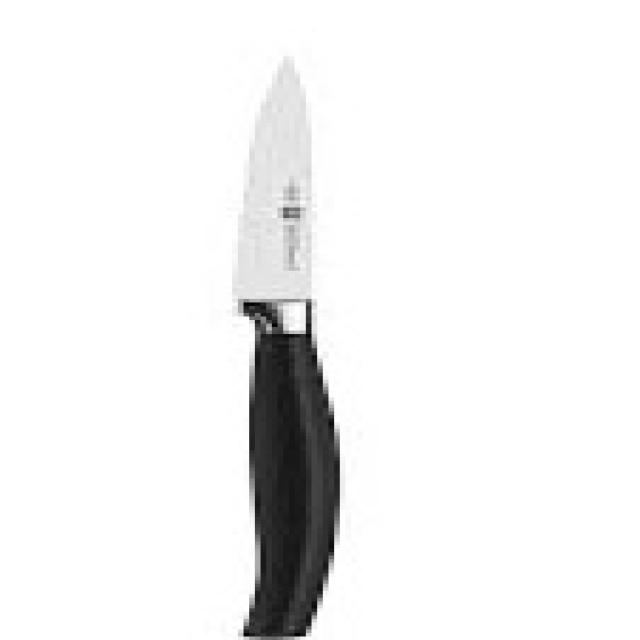knife: (230, 47, 373, 640)
